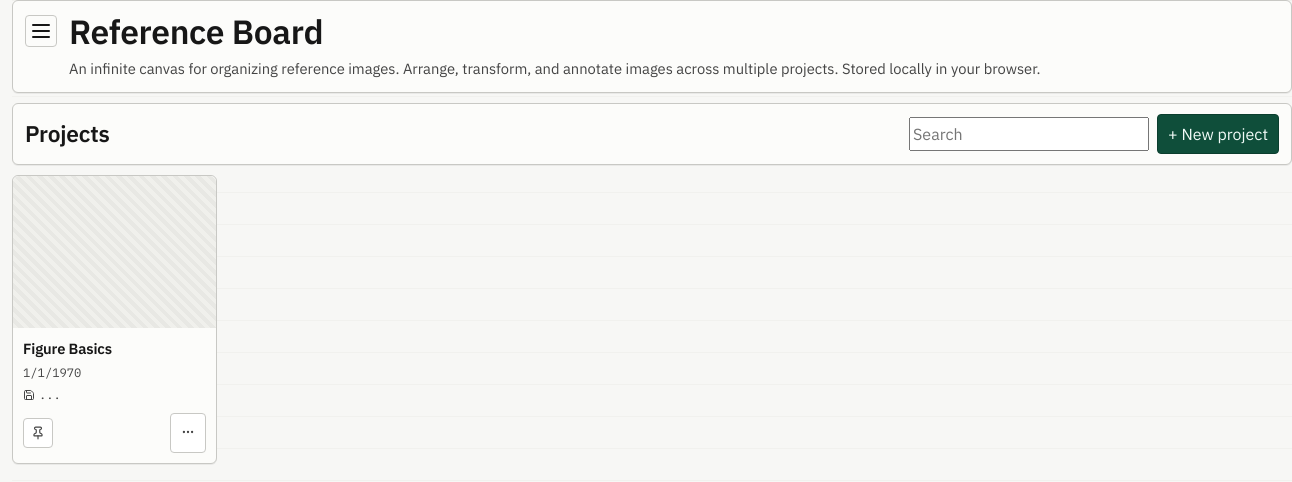
Test: ReferenceBoardPage › shows an empty search state when no projects match
Type "nomatch" into the search field named "search projects".
click(1029, 134); type("nomatch")  # box [909,117,1149,151]
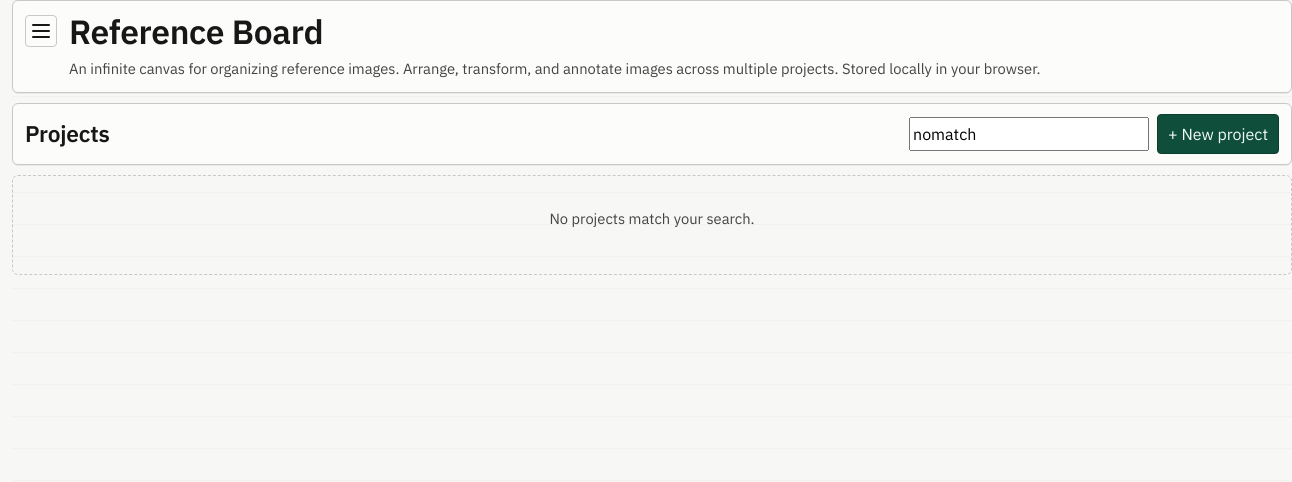
Check: the text "No projects match your search." is shown, box [549,209,755,228]
